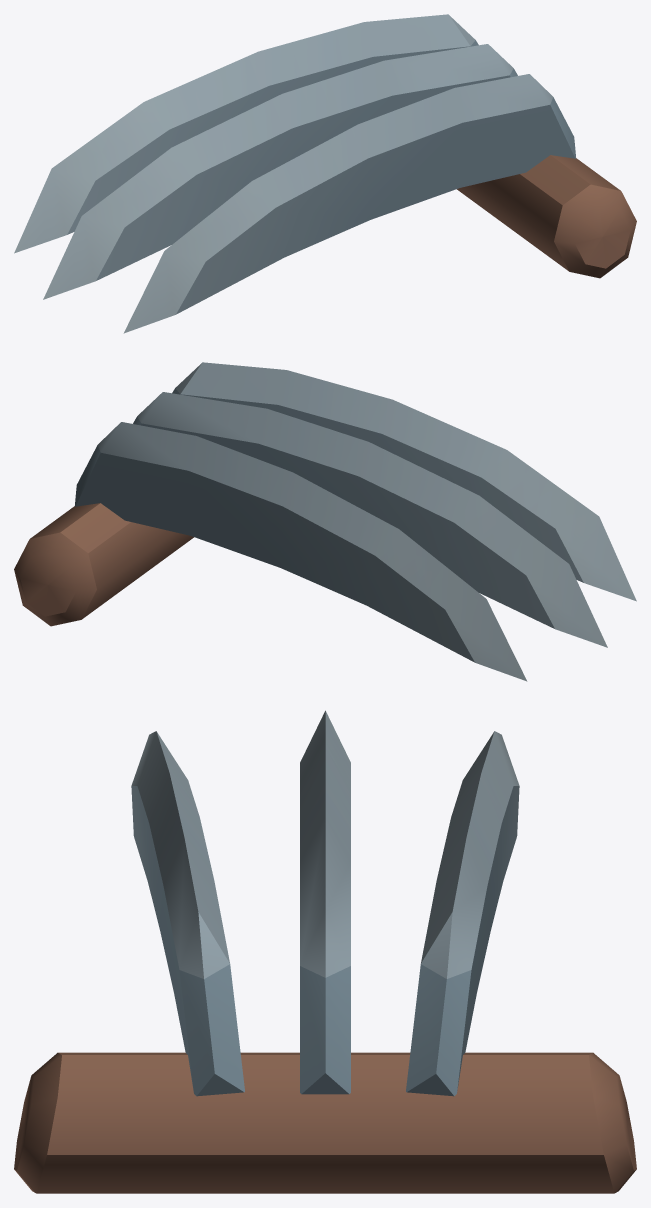
Rendered from fistweapon_B.glb.
The picture shows the model from 3 angles, top to bottom: view 1: azimuth 30°, elevation 25°; view 2: azimuth 150°, elevation 25°; view 3: azimuth 270°, elevation 25°; orthographic projection. The views are drawn at different scales.
Visible parts, largest first — view 1: fistweapon_B; view 2: fistweapon_B; view 3: fistweapon_B.
Boxes of the visible parts, bbox=[...] form: fistweapon_B: bbox=[14, 14, 636, 333]; fistweapon_B: bbox=[14, 362, 636, 681]; fistweapon_B: bbox=[14, 710, 636, 1193].
Size of the model in its own units: 0.5206 by 0.1764 by 0.3554.
Materials: 1 (1 with a texture image).
